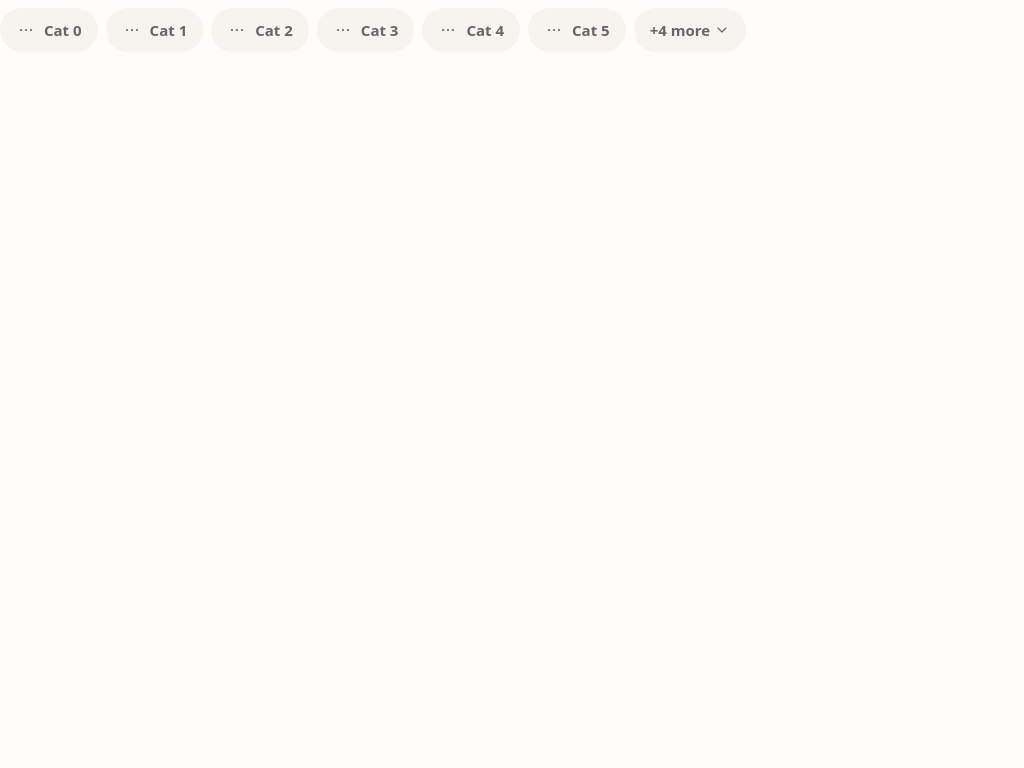
Test: CategoryPicker › opens a popup revealing every category
Click the button "+4 more".
click(690, 30)  # box [634,8,746,52]
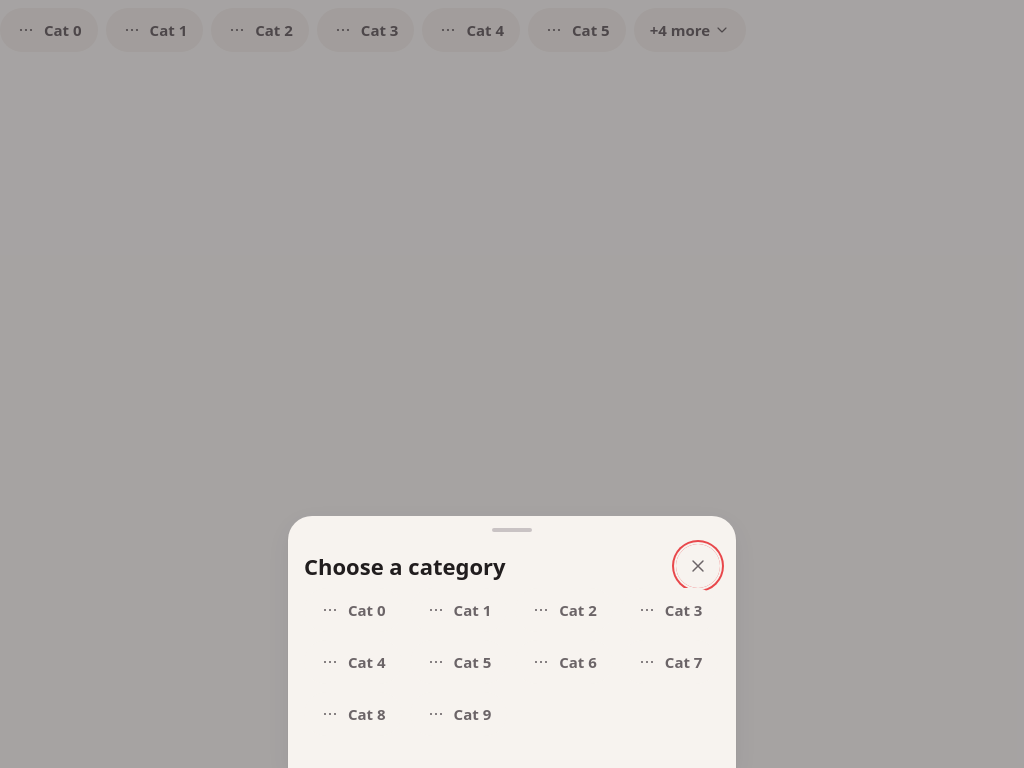
Expected: the dialog is shown, [288,516,736,767]
Expected: the button "Cat 9" is shown, [410,692,507,736]
